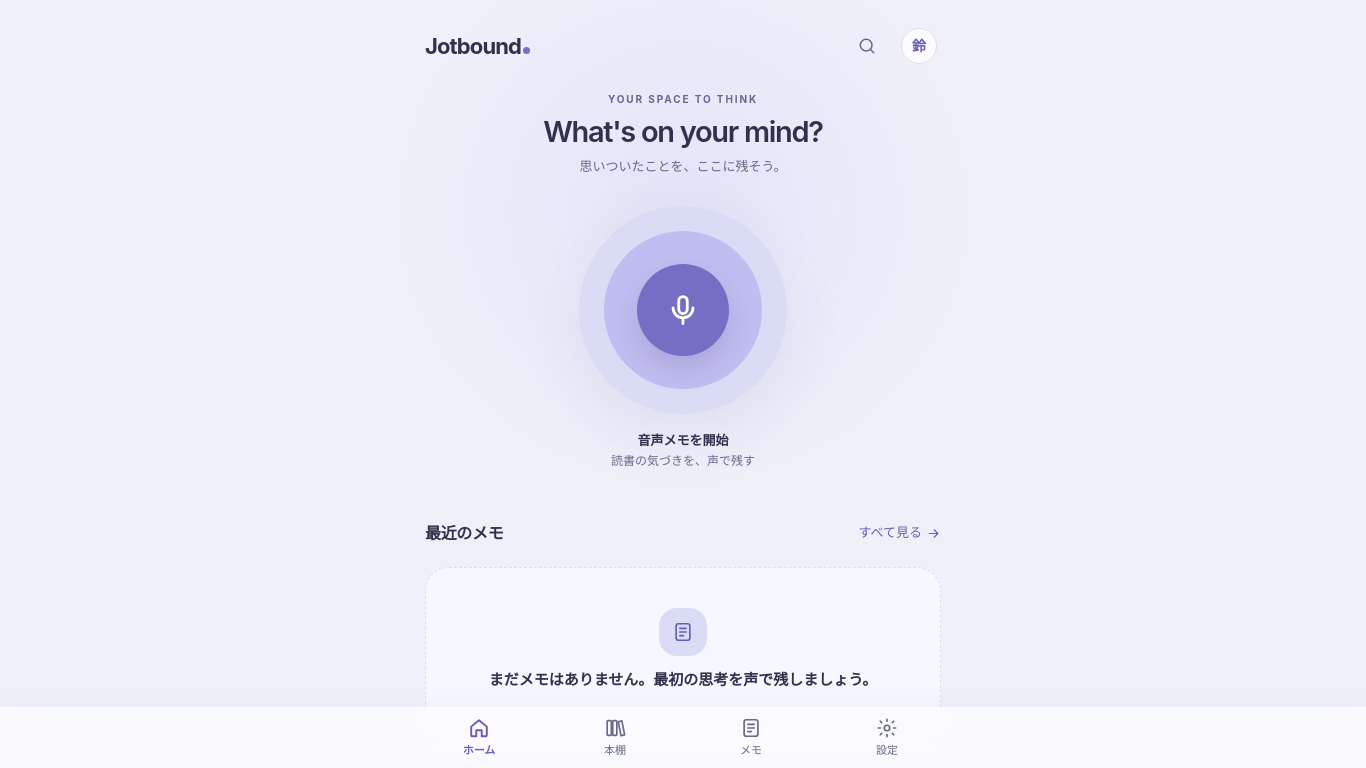
Test: 録音画面 › マイクを拒否されたら、設定方法と再試行・手入力を案内する
What coordinates should you click on to do the following:
click the button named "音声メモを開始"
I would click on:
 (683, 310)
Its box is [637,264,729,356].
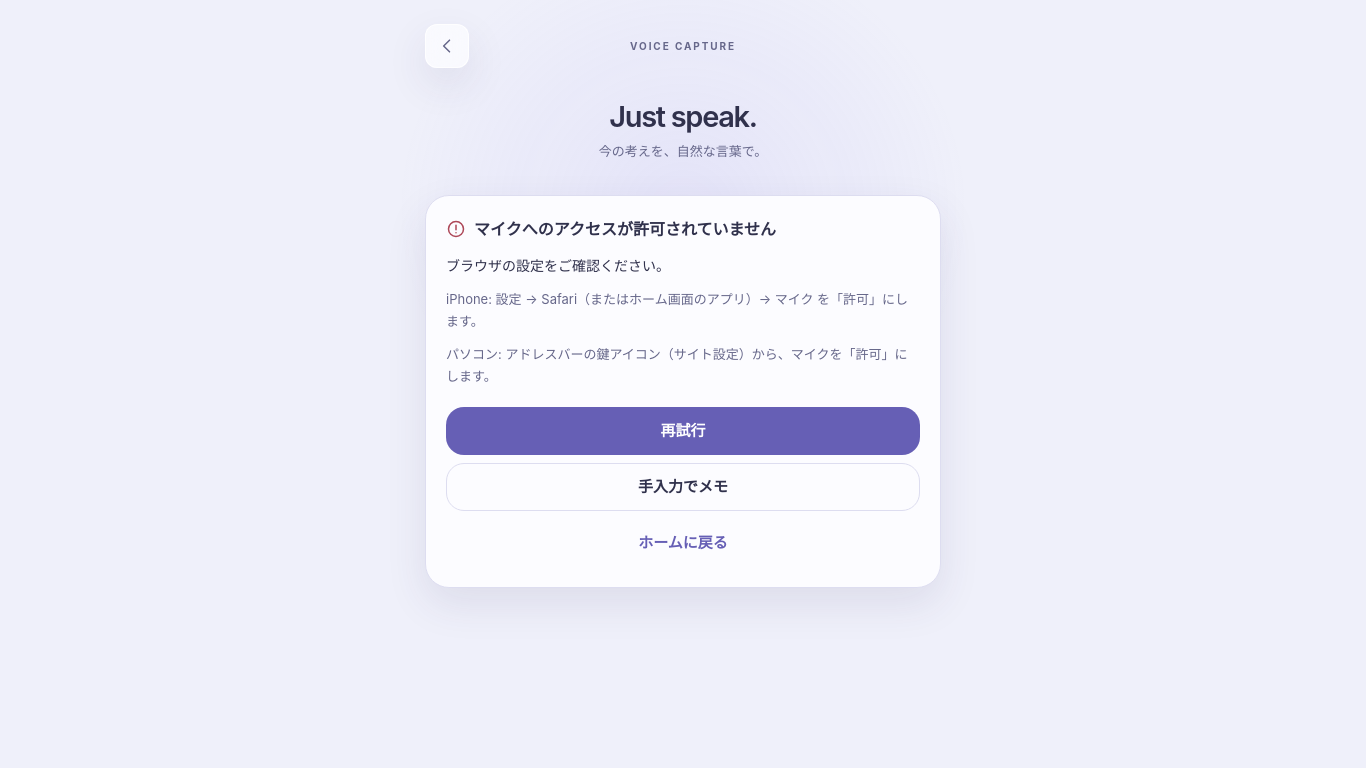
Check: the text "マイクへのアクセスが許可されていません" is shown, box [446,219,776,239]
Check: the text "iPhone: 設定 → Safari（またはホーム画面のアプリ）→ マイク を「許可」にします。" is shown, box [446,289,920,332]
Check: the button "再試行" is shown, box [446,407,920,455]
